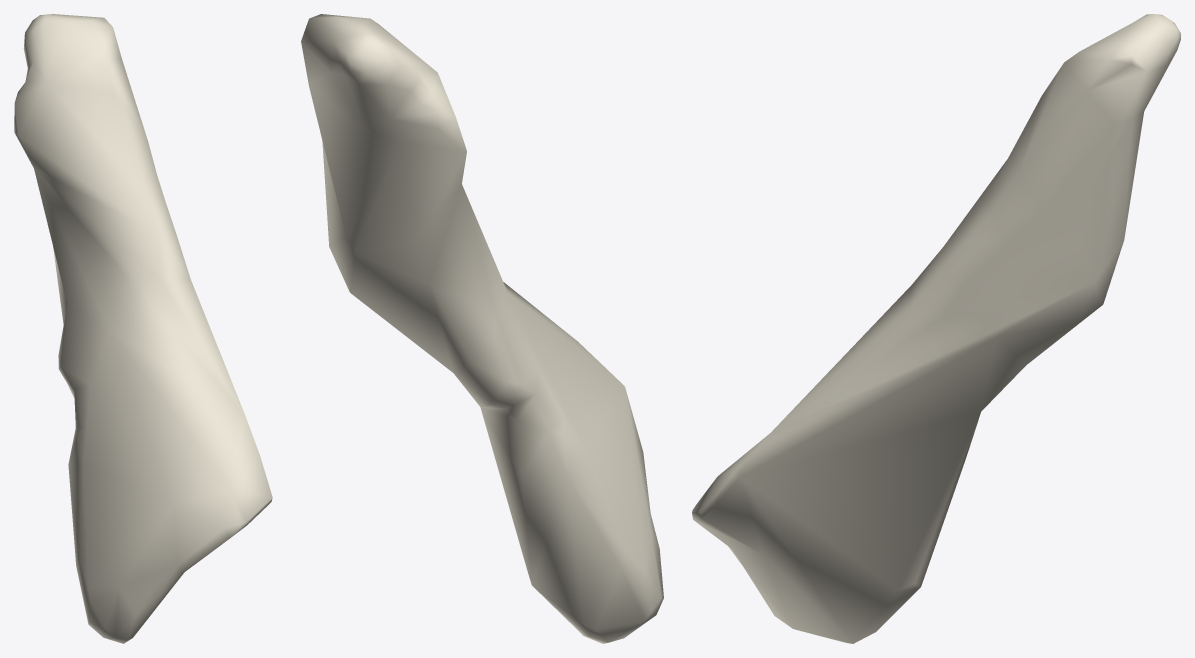
3 renders of one model, left to right at view 1: azimuth 30°, elevation 25°; view 2: azimuth 150°, elevation 25°; view 3: azimuth 270°, elevation 25°, orthographic. The views are drawn at different scales.
Visible parts, largest first — view 1: ZA_30c3ccf9c5916d69; view 2: ZA_30c3ccf9c5916d69; view 3: ZA_30c3ccf9c5916d69.
Boxes of the visible parts, <box> form: ZA_30c3ccf9c5916d69: <box>14,14,272,643</box>; ZA_30c3ccf9c5916d69: <box>301,14,663,643</box>; ZA_30c3ccf9c5916d69: <box>692,14,1180,643</box>.
Size of the model in its own units: 0.0084 by 0.0314 by 0.0209.
